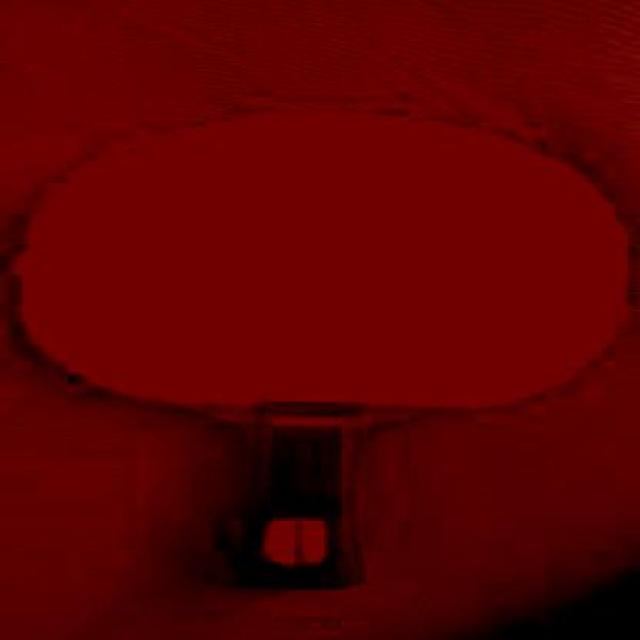table_tennis_racket: (14, 103, 626, 577)
